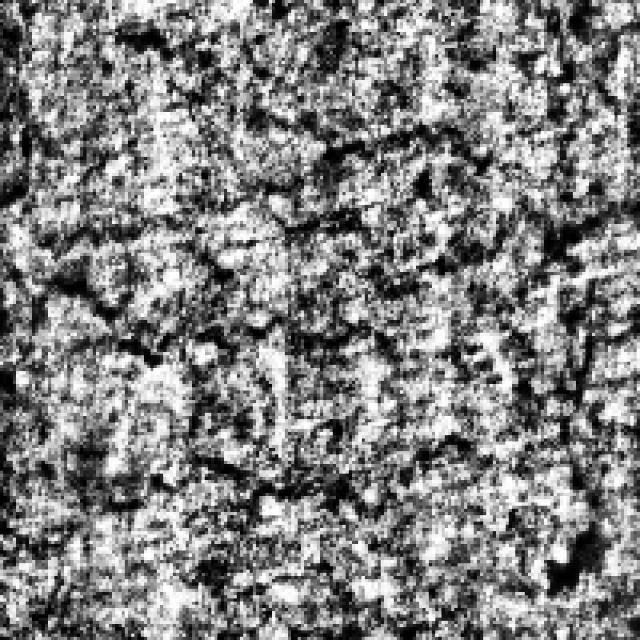Pitted_Surface: (0, 275, 432, 515), (499, 0, 637, 595), (250, 112, 630, 285)
